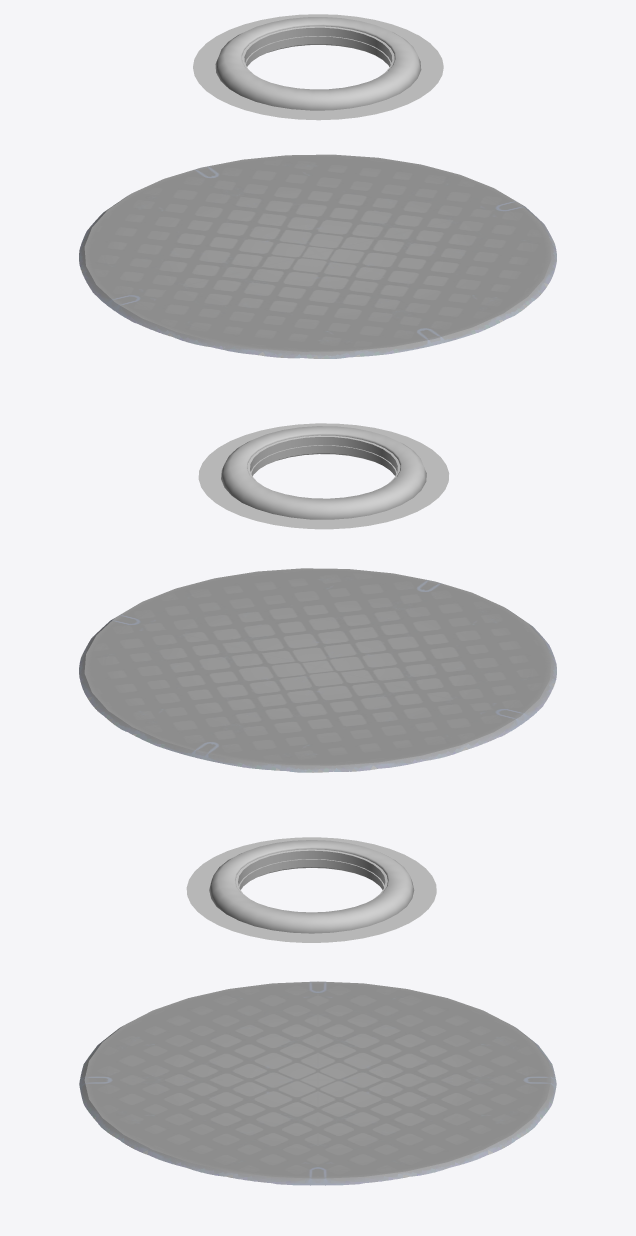
File: pref_TPC_v2_NeutralScoreArea03_winter_purple_idle_lv3.fbx
3 renders of one model, top to bottom at view 1: azimuth 30°, elevation 25°; view 2: azimuth 150°, elevation 25°; view 3: azimuth 270°, elevation 25°, orthographic.
Parts seen in each view (by area): view 1: sm_prop_platform06a_lv3, sm_prop_platform06b_lv3, sm_fx_0037_ring_04_xz (2), fresnel (2); view 2: sm_prop_platform06a_lv3, sm_prop_platform06b_lv3, sm_fx_0037_ring_04_xz (2), fresnel (2); view 3: sm_prop_platform06a_lv3, sm_prop_platform06b_lv3, sm_fx_0037_ring_04_xz (2), fresnel (2).
Boxes of the visible parts, bbox=[...] form: sm_prop_platform06a_lv3: bbox=[79, 154, 556, 358]; sm_prop_platform06b_lv3: bbox=[217, 25, 421, 110]; sm_fx_0037_ring_04_xz (2): bbox=[193, 14, 443, 120]; fresnel (2): bbox=[215, 17, 403, 109]; sm_prop_platform06a_lv3: bbox=[79, 568, 556, 772]; sm_prop_platform06b_lv3: bbox=[225, 426, 426, 519]; sm_fx_0037_ring_04_xz (2): bbox=[198, 423, 449, 529]; fresnel (2): bbox=[221, 446, 420, 519]; sm_prop_platform06a_lv3: bbox=[79, 981, 556, 1185]; sm_prop_platform06b_lv3: bbox=[209, 840, 405, 933]; sm_fx_0037_ring_04_xz (2): bbox=[186, 837, 436, 942]; fresnel (2): bbox=[244, 840, 414, 932].
Size of the model in its own units: 7.46 by 2.88 by 7.46.
